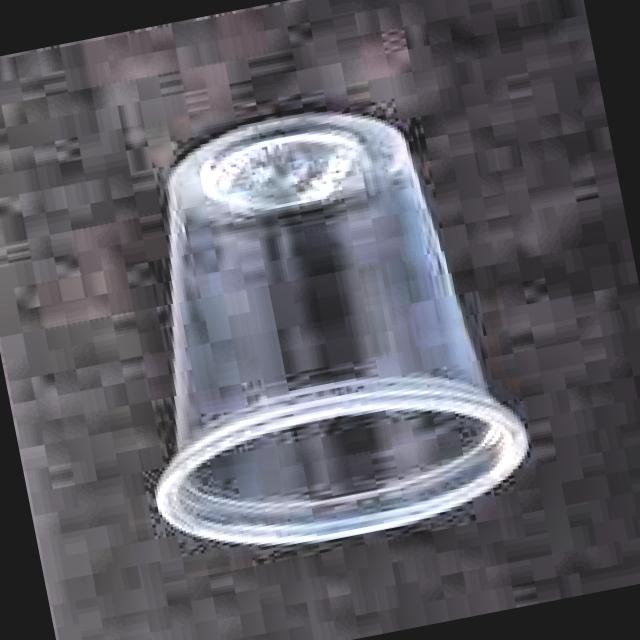plastic cup: (156, 114, 527, 544)
